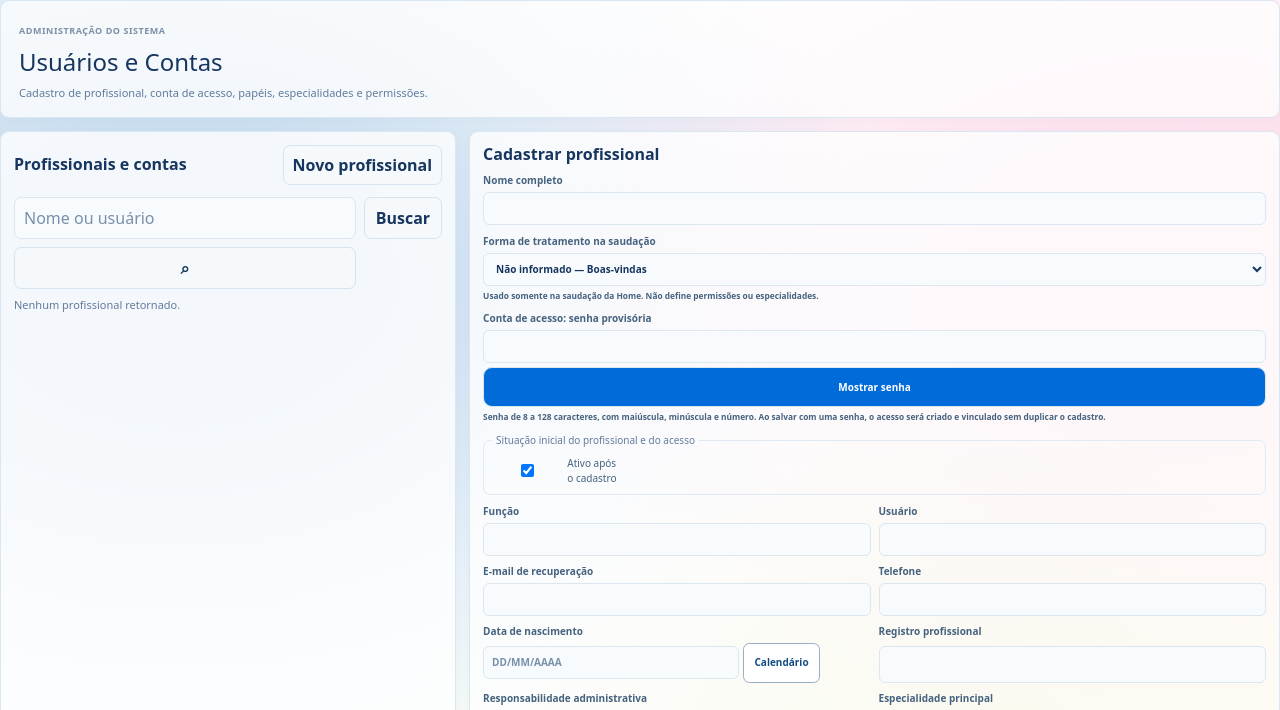
Test: GestorTeamPage › mostra e oculta apenas a senha provisória digitada, sem afetar o valor ou enviar senha
The width and height of the screenshot is (1280, 710).
Type "SenhaTeste2026" into the password field labelled "Conta de acesso: senha provisória" at (875, 347), box [483,330,1266,363]
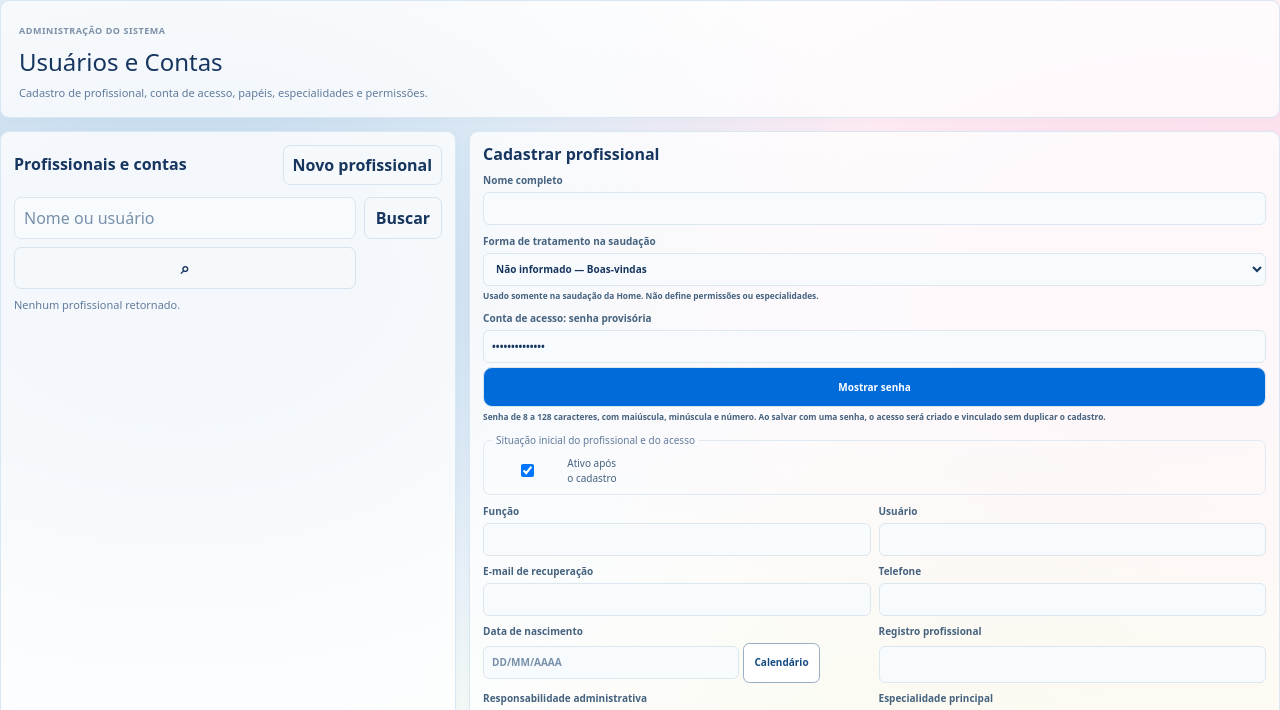
Click the button with aria-label "Mostrar senha provisória" at (875, 387), box [483,367,1266,407]
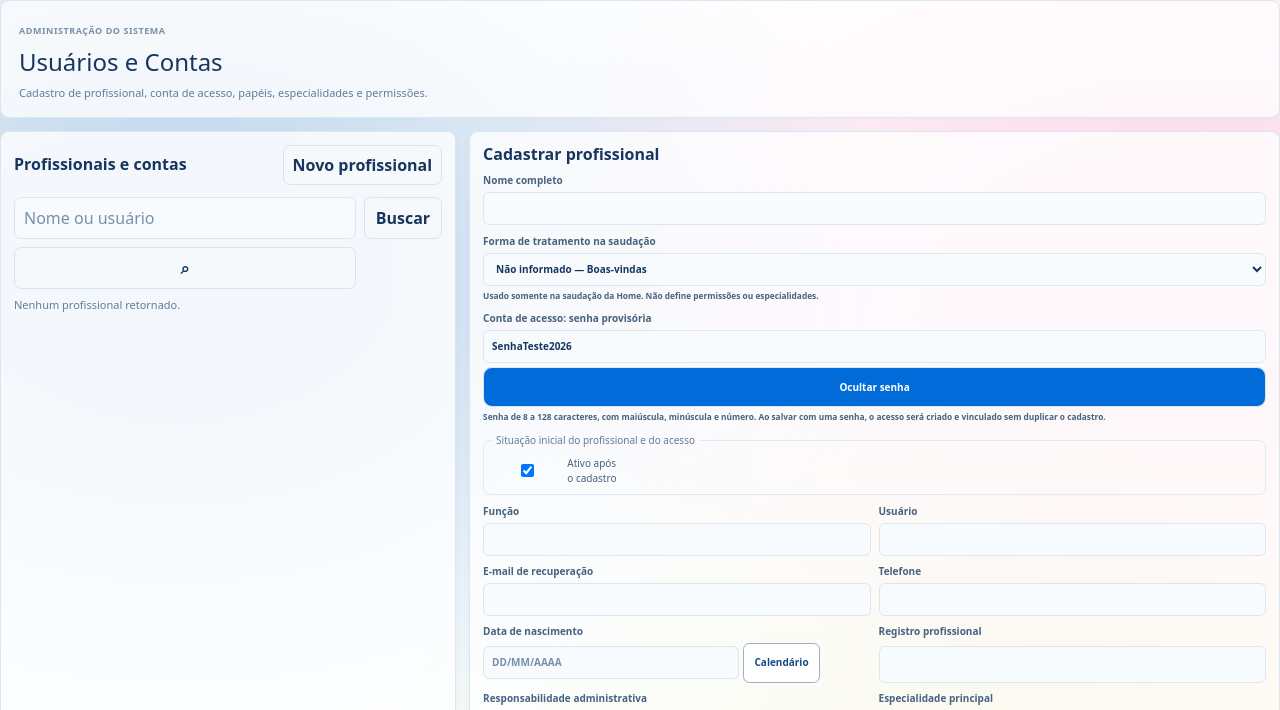
expect the field labelled "Conta de acesso: senha provisória" shows its text: met, box [483,330,1266,363]
Click the button with aria-label "Ocultar senha provisória" at (875, 387), box [483,367,1266,407]
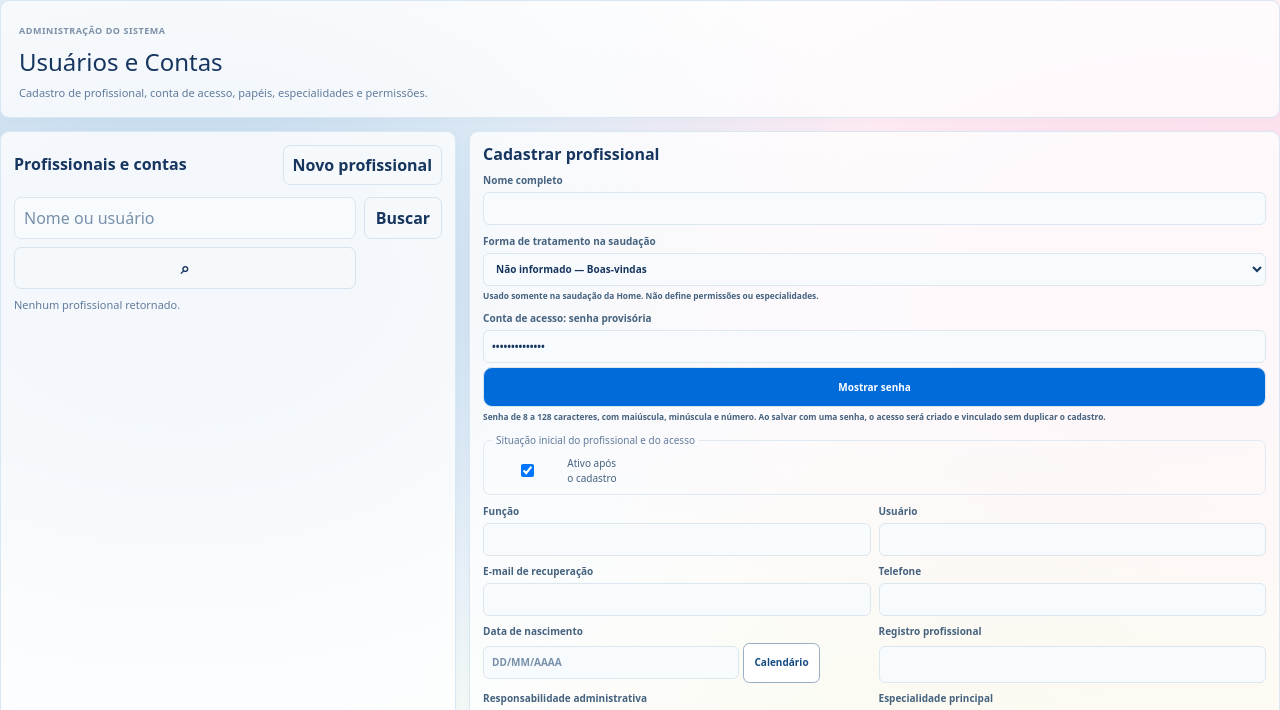
expect the password field labelled "Conta de acesso: senha provisória" hides its text: met, box [483,330,1266,363]
